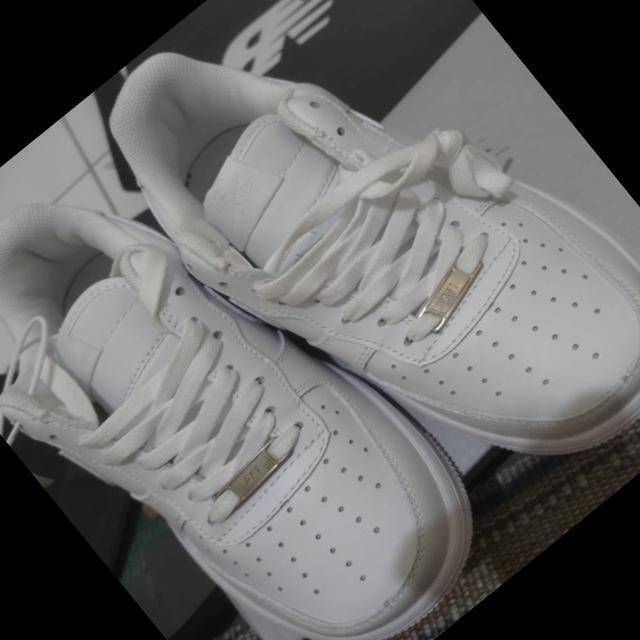nike fake air force: (70, 0, 640, 581), (0, 65, 532, 640)
